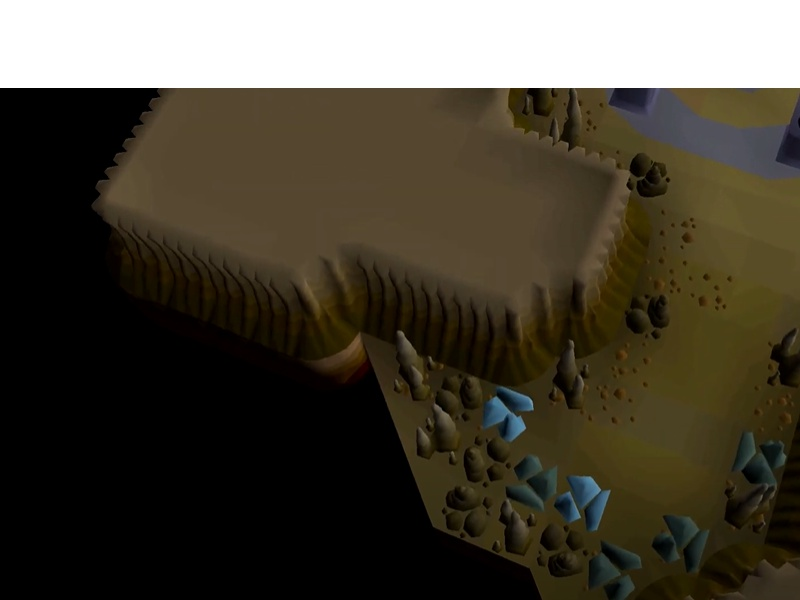adamant: (649, 511, 712, 573), (586, 537, 644, 600), (728, 428, 789, 487), (503, 452, 559, 513)
rune: (551, 472, 614, 534), (479, 384, 537, 444)
